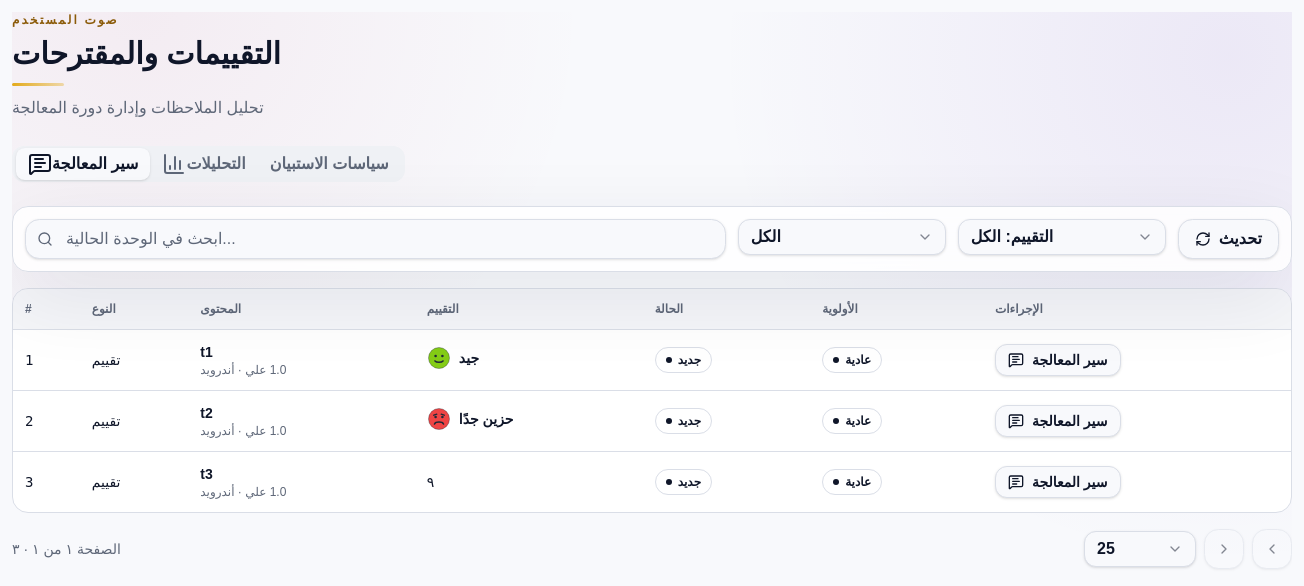
Test: FeedbackPage rating display › summary shows average face, numeric average and distribution counts
Click the tab "التحليلات" at (204, 164), box x1=150 y1=148 x2=258 y2=180
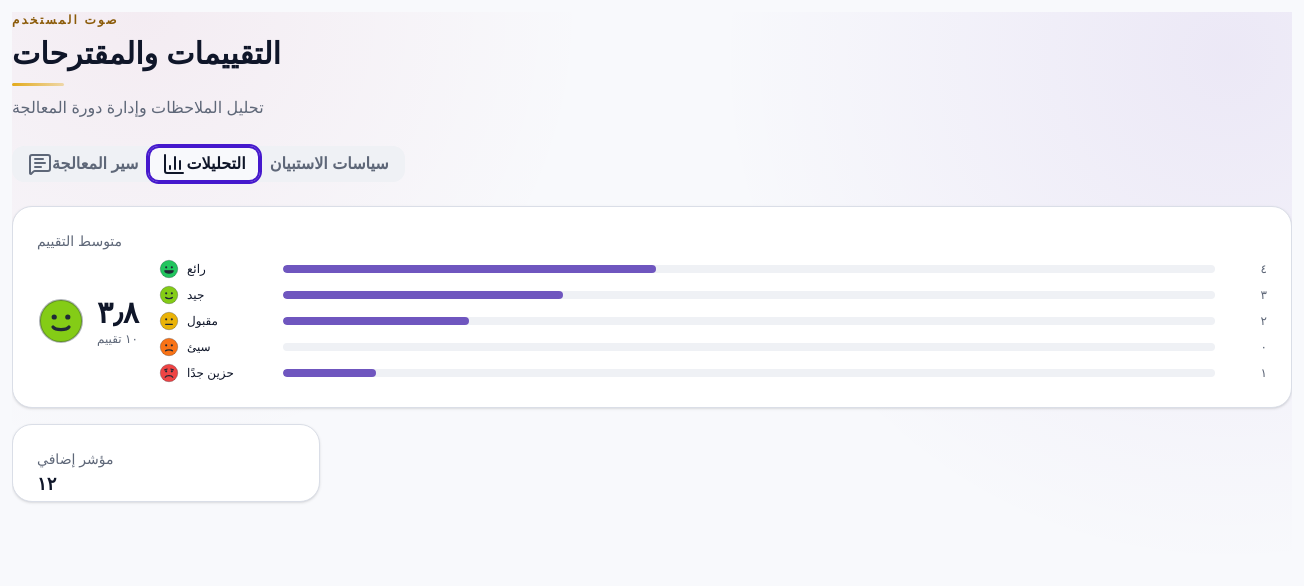
Expected: the element with test id "rating-summary" is shown, x1=12 y1=206 x2=1292 y2=408
Expected: the heading with test id "rating-average" reads "٣٫٨", x1=97 y1=296 x2=139 y2=329
Expected: the text "٤" is shown, x1=1260 y1=262 x2=1267 y2=276
